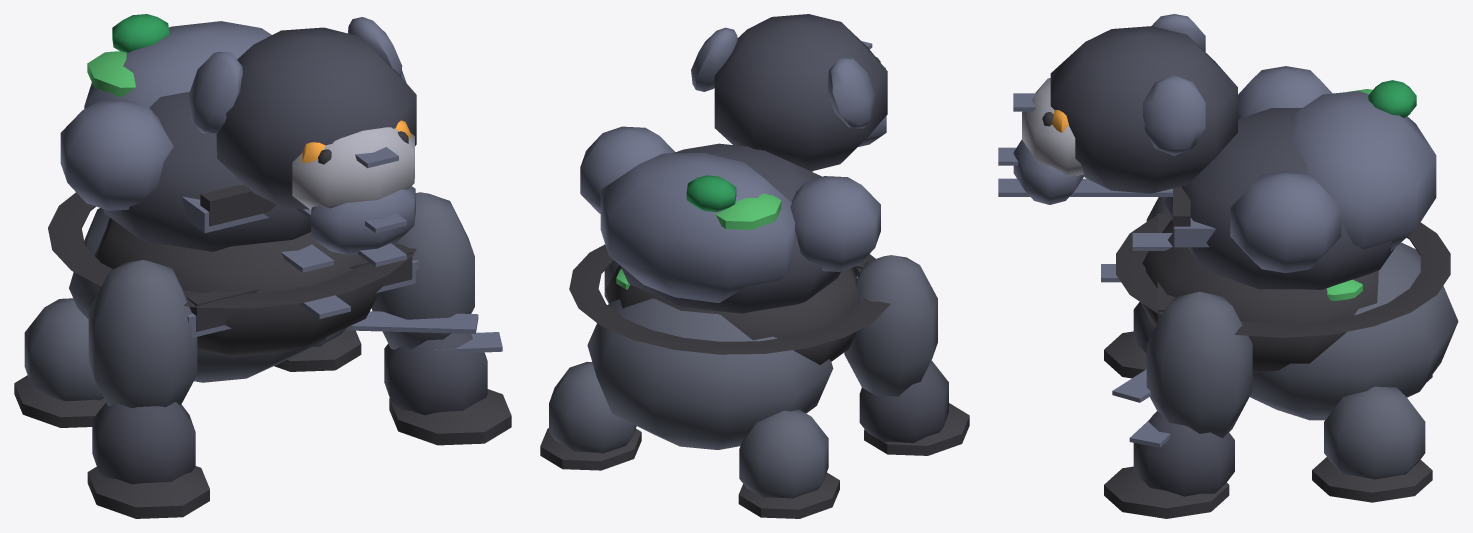
File: stone_warden.glb
3 renders of one model, left to right at view 1: azimuth 30°, elevation 25°; view 2: azimuth 150°, elevation 25°; view 3: azimuth 270°, elevation 25°, orthographic. The views are drawn at different scales.
Visible parts, largest first — view 1: StoneWarden; view 2: StoneWarden; view 3: StoneWarden.
Part boxes in pixels (x1,y1,x2,y2): StoneWarden: (14,14,511,518); StoneWarden: (540,14,969,518); StoneWarden: (998,14,1458,518).
Bounding box in the file's own units: 4.05 × 4.2 × 4.33.
Materials: 1 (1 with a texture image).
